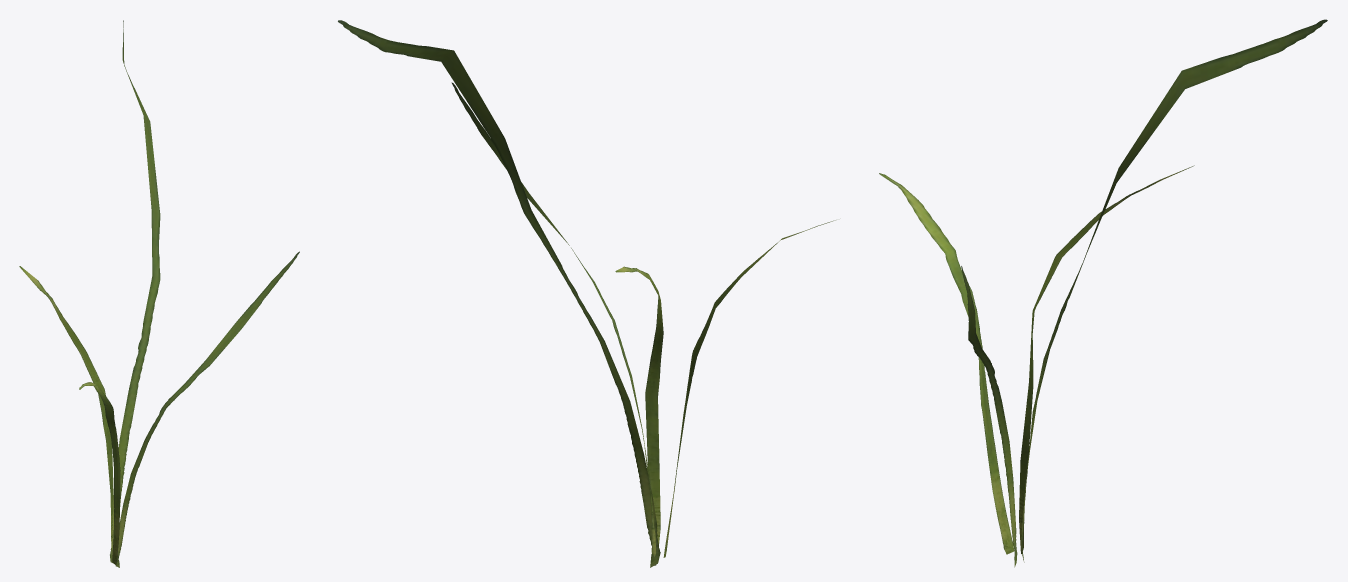
Rendered from grass-far.glb.
3 views of the same model, side by side, from view 1: azimuth 30°, elevation 25°; view 2: azimuth 150°, elevation 25°; view 3: azimuth 270°, elevation 25° (orthographic). The views are drawn at different scales.
Parts seen in each view (by area): view 1: grass_medium_01_tiny_a_LOD0; view 2: grass_medium_01_tiny_a_LOD0; view 3: grass_medium_01_tiny_a_LOD0.
Part boxes in pixels (box(x1,y1,x2,y2)): grass_medium_01_tiny_a_LOD0: box(19, 20, 299, 567); grass_medium_01_tiny_a_LOD0: box(338, 20, 835, 567); grass_medium_01_tiny_a_LOD0: box(879, 19, 1327, 567).
Size of the model in its own units: 0.599 by 1 by 0.656.
Materials: 1 (1 with a texture image).
